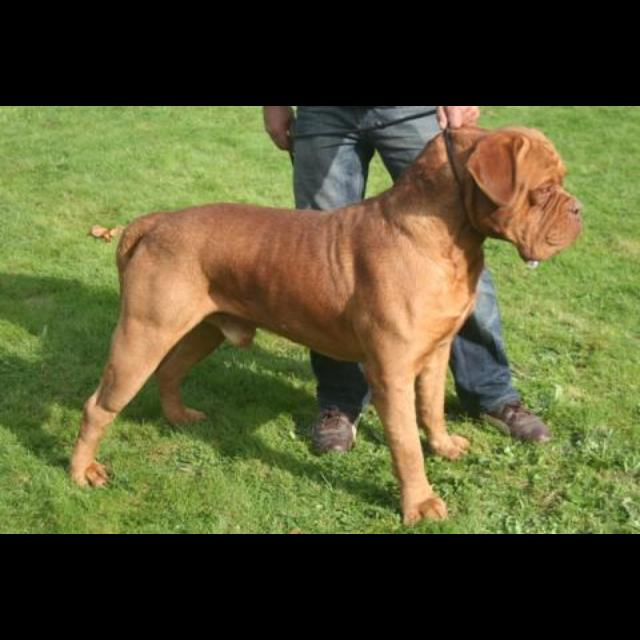dogue_de_bordeaux: (68, 120, 584, 528)
person: (262, 107, 550, 455)
